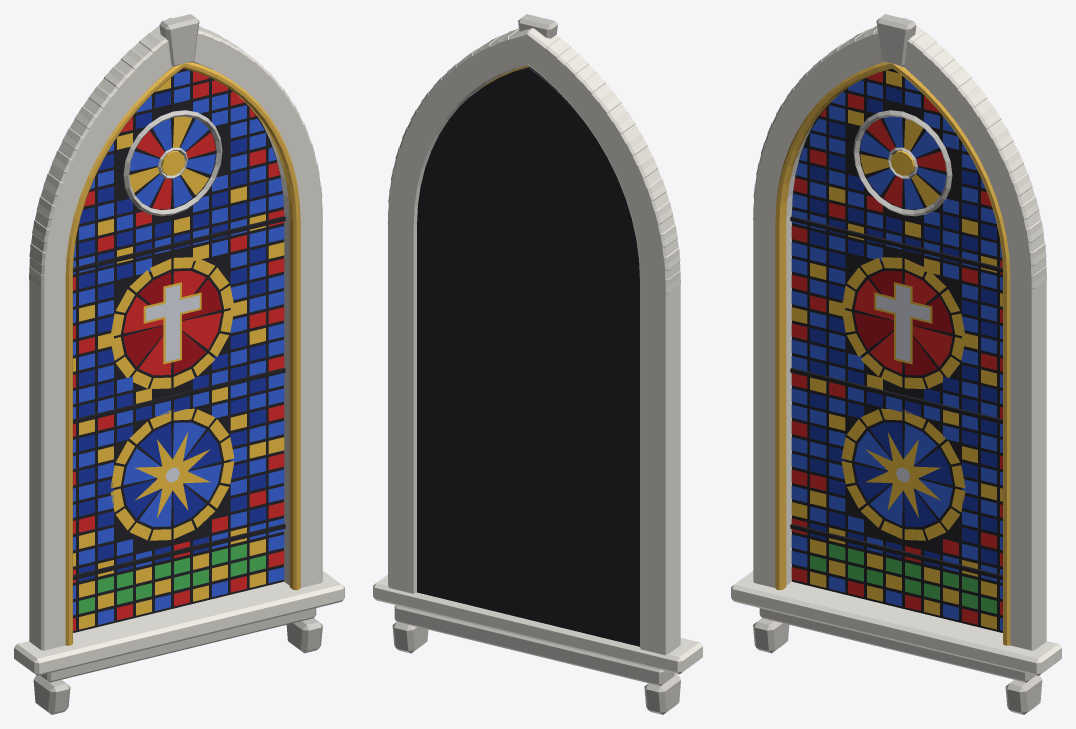
The model's file is stained_window.obj.
3 renders of one model, left to right at view 1: azimuth 30°, elevation 25°; view 2: azimuth 150°, elevation 25°; view 3: azimuth 330°, elevation 25°, orthographic.
Parts seen in each view (by area): view 1: prism, box.025, box, box.053, box.026, box.051, box.054, torus, box.052, box.015, box.016, box.019 (+42 smaller); view 2: prism, box.025, box, box.053, box.054, box.016, box.019, box.014, box.020, box.018, box.021, box.017 (+19 smaller); view 3: prism, box, box.025, box.053, box.051, box.026, box.054, torus, box.052, box.009, box.005, box.058 (+43 smaller).
Boxes of the visible parts, x1,y1,x2,y2 form: prism: [73, 68, 283, 632]; box.025: [29, 266, 65, 650]; box: [284, 206, 322, 587]; box.053: [14, 571, 344, 675]; box.026: [289, 219, 300, 590]; box.051: [65, 276, 72, 645]; box.054: [40, 608, 316, 682]; torus: [123, 110, 222, 216]; box.052: [159, 14, 199, 66]; box.015: [104, 49, 160, 104]; box.016: [88, 67, 143, 121]; box.019: [52, 128, 103, 179]; prism: [417, 66, 639, 646]; box.025: [640, 270, 680, 655]; box: [388, 211, 416, 593]; box.053: [373, 574, 702, 674]; box.054: [394, 605, 674, 685]; box.016: [566, 72, 621, 126]; box.019: [605, 133, 657, 185]; box.014: [534, 37, 589, 92]; box.020: [616, 155, 666, 205]; box.018: [594, 111, 647, 164]; box.021: [624, 178, 673, 226]; box.017: [581, 91, 635, 145]; prism: [792, 68, 1002, 632]; box: [1010, 266, 1046, 650]; box.025: [753, 206, 791, 587]; box.053: [731, 571, 1061, 675]; box.051: [775, 219, 786, 590]; box.026: [1003, 276, 1010, 645]; box.054: [759, 608, 1035, 682]; torus: [853, 110, 952, 216]; box.052: [876, 14, 916, 66]; box.009: [931, 67, 987, 121]; box.005: [983, 150, 1032, 200]; box.058: [790, 368, 1002, 424].
Size of the model in its own units: 1.5 by 3.05 by 0.2.
